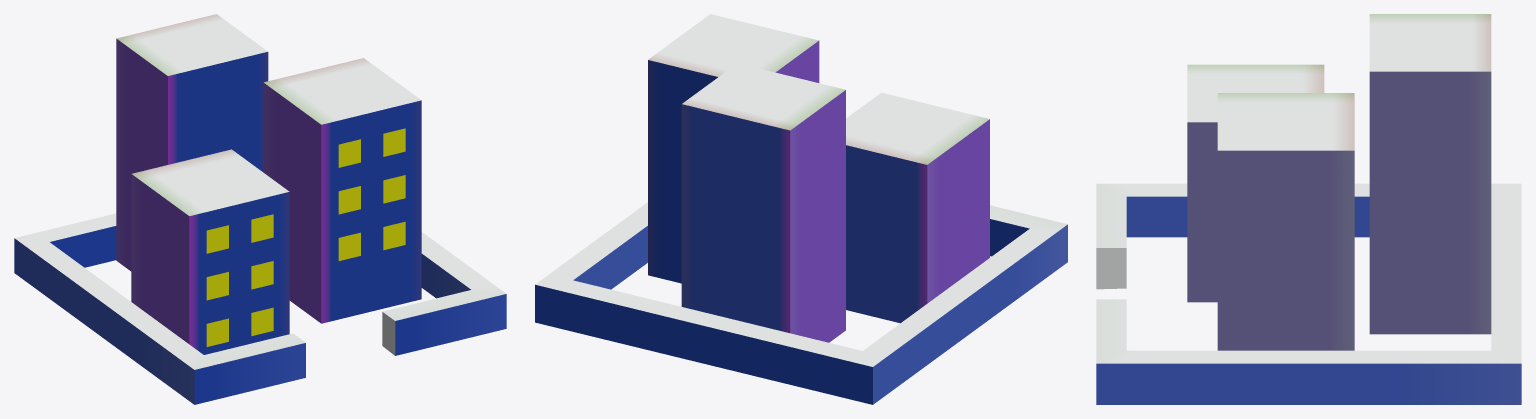
The model's file is City.CobaltIce.Snow.glb.
3 renders of one model, left to right at view 1: azimuth 30°, elevation 25°; view 2: azimuth 150°, elevation 25°; view 3: azimuth 270°, elevation 25°, orthographic. The views are drawn at different scales.
Parts seen in each view (by area): view 1: City.CobaltIce.Snow; view 2: City.CobaltIce.Snow; view 3: City.CobaltIce.Snow.
Boxes of the visible parts, x1,y1,x2,y2 form: City.CobaltIce.Snow: [14, 14, 506, 404]; City.CobaltIce.Snow: [535, 14, 1067, 404]; City.CobaltIce.Snow: [1096, 14, 1521, 404].
Bounding box in the file's own units: 2.8 × 1.91 × 2.8.
2 materials, 1 textured.
